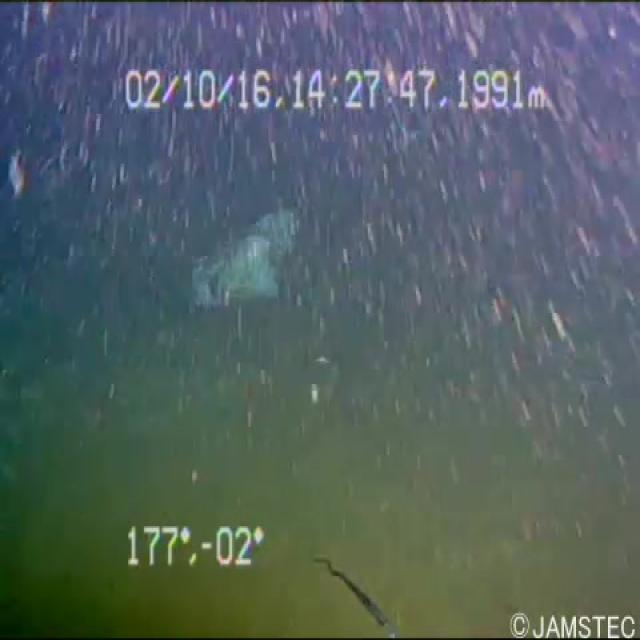plastic: (183, 169, 305, 320)
